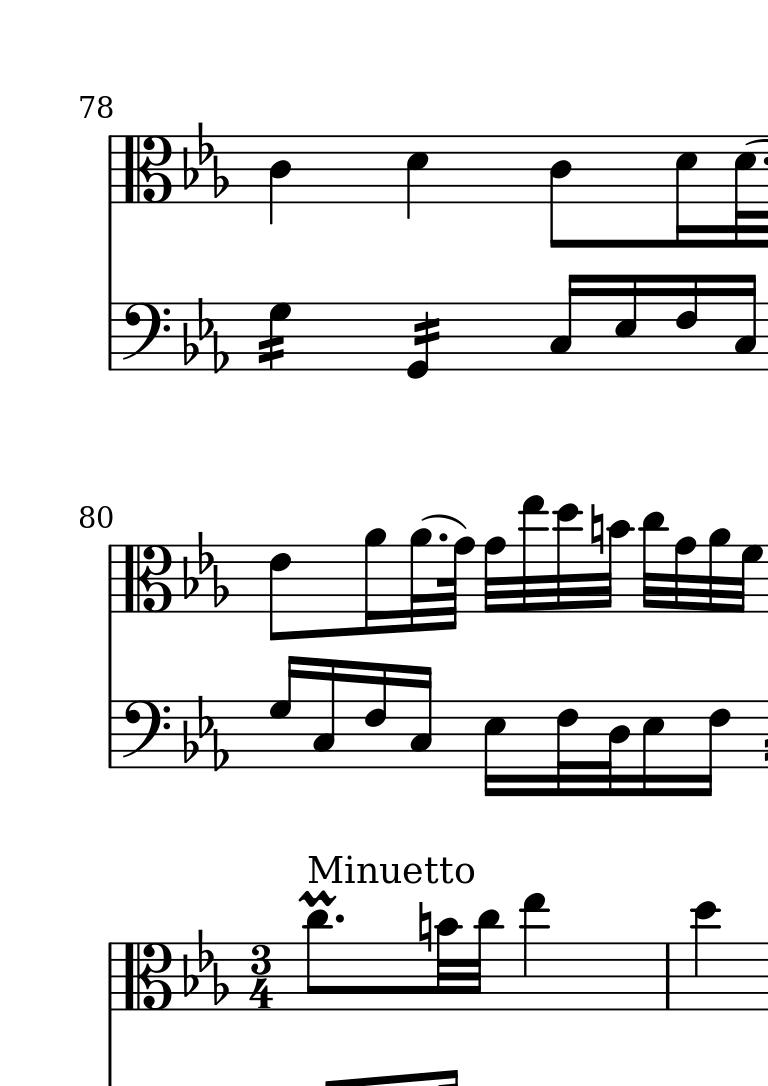16_3: (550, 274, 586, 372), (309, 657, 338, 772), (730, 271, 760, 374), (410, 663, 435, 771)
16_4: (602, 697, 630, 797)
16_5: (674, 134, 701, 248), (613, 272, 640, 373), (640, 697, 665, 798), (482, 696, 506, 800)
16_6: (695, 697, 733, 795), (673, 272, 701, 372), (365, 661, 390, 769)
16_7: (268, 653, 301, 770)
16_9: (363, 528, 390, 637)
32_10: (599, 517, 633, 614), (434, 916, 459, 1015)
32_11: (470, 908, 502, 1012), (642, 509, 668, 613)
32_12: (553, 502, 579, 613)
32_13: (521, 492, 545, 613)
32_5: (733, 132, 758, 251)
32_6: (555, 698, 581, 796)
32_7: (735, 542, 764, 615)
32_8: (483, 534, 511, 618), (672, 536, 696, 618)
32_9: (409, 527, 436, 636), (705, 526, 731, 617)
4_12: (691, 899, 720, 1012)
4_13: (521, 891, 548, 1013)
4_4: (268, 133, 293, 226)
4_5: (404, 133, 432, 223)
64_8: (436, 535, 476, 632)
7: (78, 94, 95, 119)
8: (96, 94, 114, 120), (78, 504, 95, 529), (97, 505, 112, 528)
8_11: (303, 908, 331, 1014)
8_4: (548, 132, 573, 250)
8_6: (267, 541, 295, 641)
Cclef: (120, 541, 177, 615), (121, 132, 177, 204), (124, 940, 173, 1014)
Fclef: (122, 699, 176, 772), (121, 301, 173, 375)
Natural: (416, 900, 434, 950), (589, 502, 605, 553)
ShortTrill: (297, 889, 337, 908)
Single_barline: (102, 302, 124, 370), (101, 943, 122, 1010), (102, 135, 121, 203), (103, 700, 121, 768), (102, 544, 119, 612)
Slur: (422, 512, 467, 530)
Stem: (405, 303, 440, 379), (257, 302, 294, 371)
TimeSig: (243, 941, 276, 1010)
dot: (327, 907, 348, 930), (333, 912, 345, 927), (437, 531, 448, 544)
